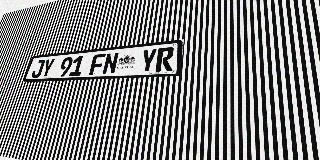plate: (23, 39, 184, 82)
